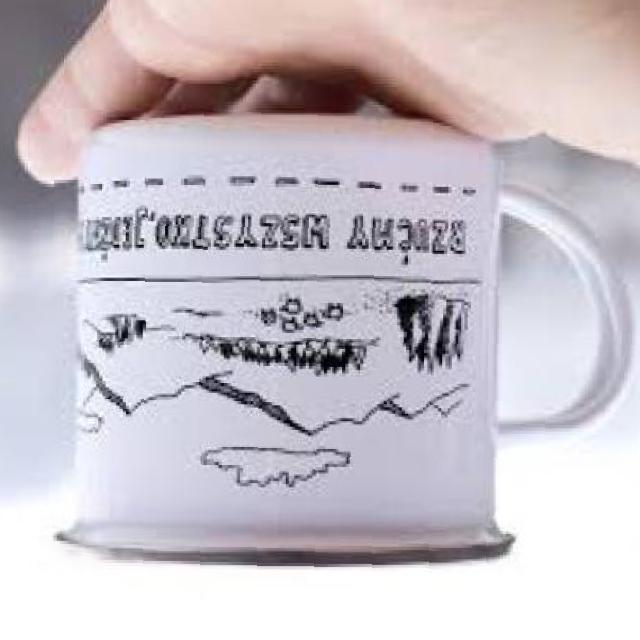cup: (0, 56, 108, 640)
